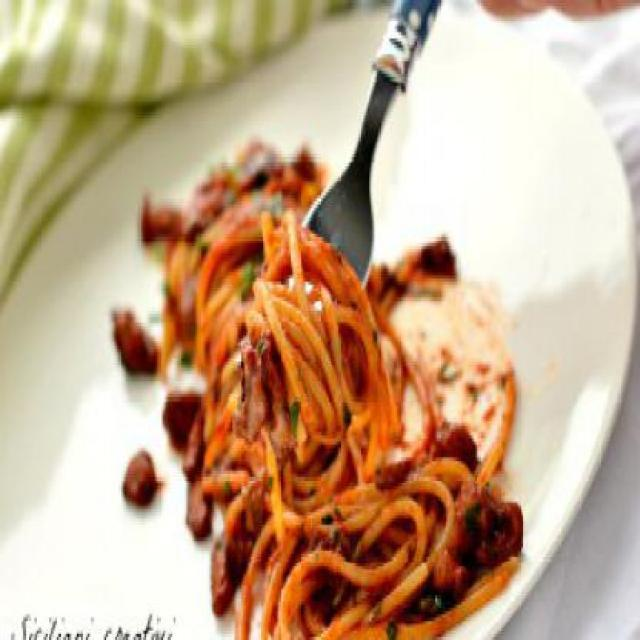Pasta al ragu: (129, 156, 562, 608)
